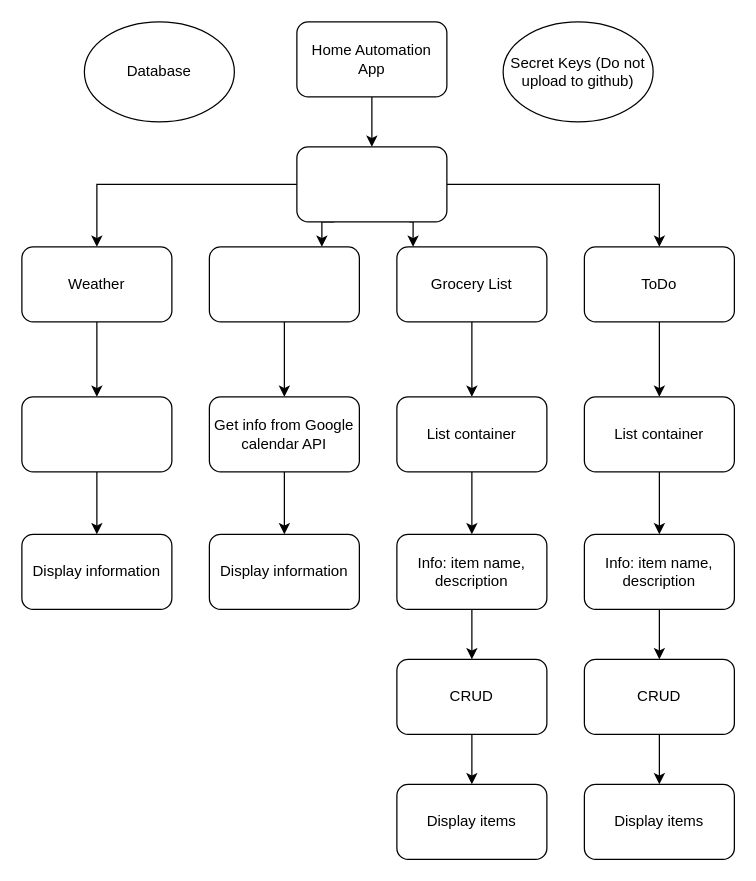
Image size: 756x881. Some labels were removed from this diagram. Each missing label, with the box of its shape:
Calendar: (208, 246, 359, 322)
Create app to start program: (296, 146, 447, 222)
Get information from weather API: (21, 396, 172, 472)
